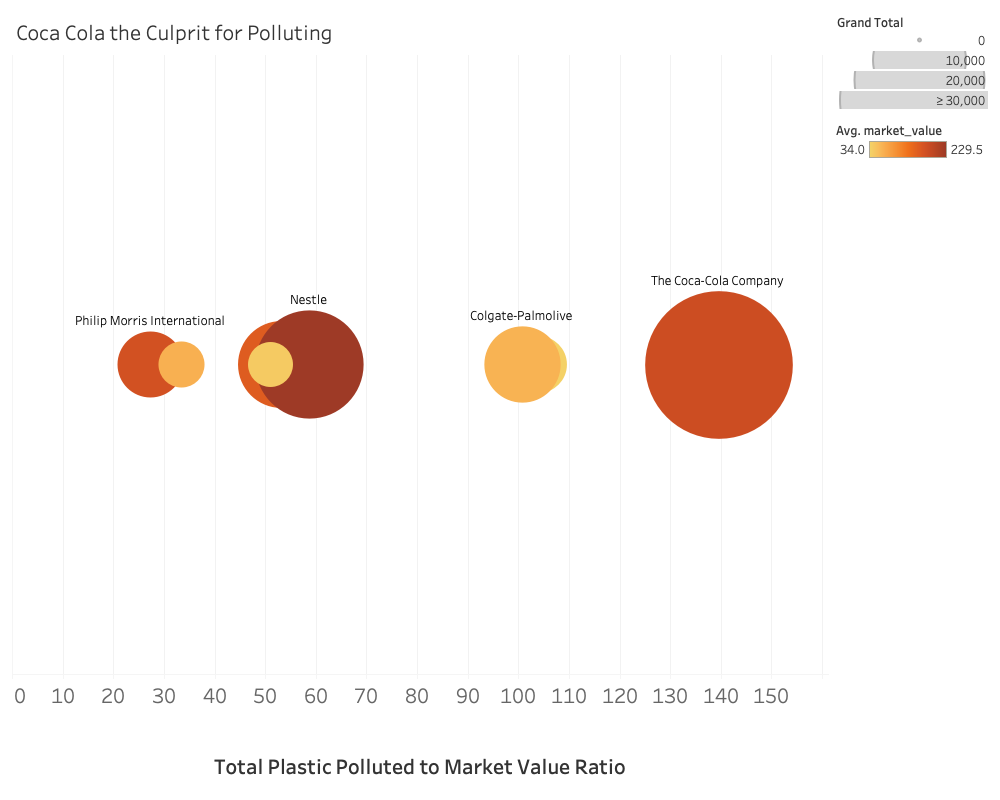

Layout of this report page (visuals, bound fields, positions):
{"tool":"tableau","page":{"name":"Dashboard 4","canvas":[1000,800],"ordinal":2},"visuals":[{"type":"worksheet","title":"Ratio","mark":"Circle","cols":["pollution_value_ratio"],"box":[8,8,824,784]},{"type":"legend","title":"Ratio","param":"[federated.0bekhf81d466km1bd868x01l75tm].[sum:grand_total:qk]","box":[832,8,160,106]},{"type":"legend","title":"Ratio","param":"[federated.0bekhf81d466km1bd868x01l75tm].[avg:market_value:qk]","box":[832,114,160,65]}]}

Visuals, with their boxes in screenshot pixels (x1, y1, x2, y2), scaled from the page's 1000x800 canvas onto the 1000x800 screenshot:
"Ratio" worksheet (Circle marks): {"left": 8, "top": 8, "right": 832, "bottom": 792}
"Ratio" legend: {"left": 832, "top": 8, "right": 992, "bottom": 114}
"Ratio" legend: {"left": 832, "top": 114, "right": 992, "bottom": 179}
